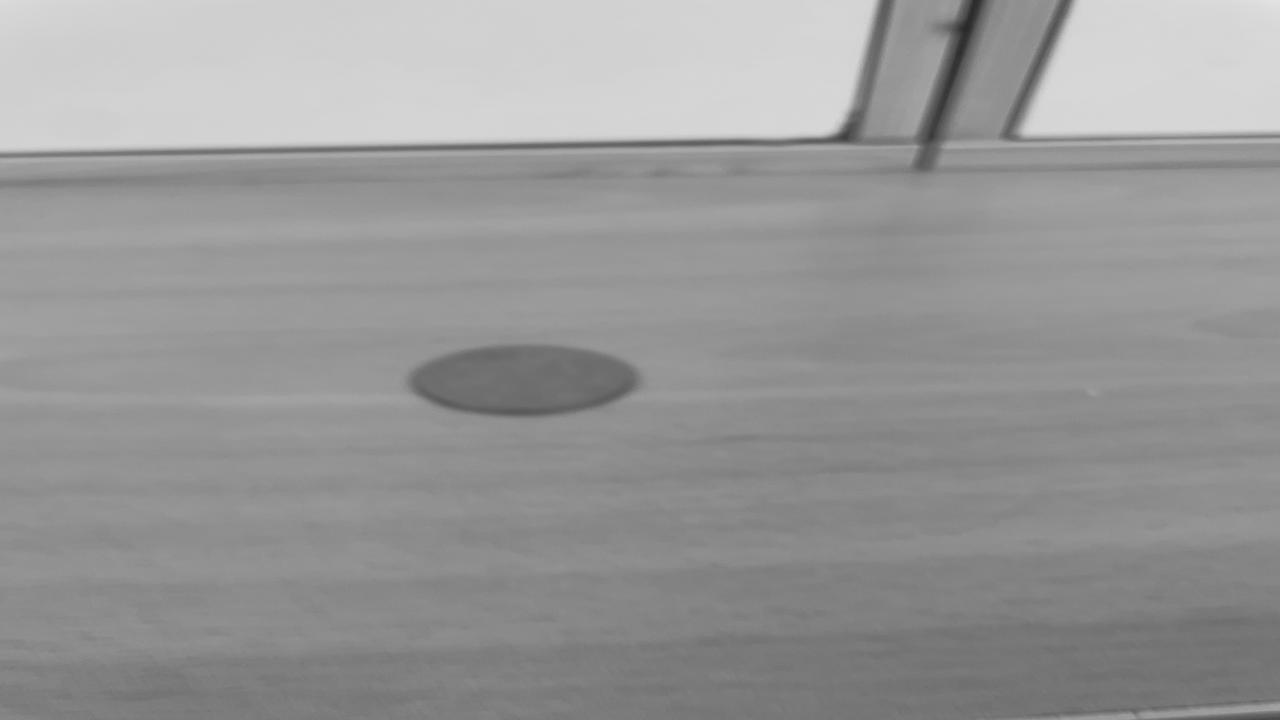coin: (408, 342, 646, 416)
